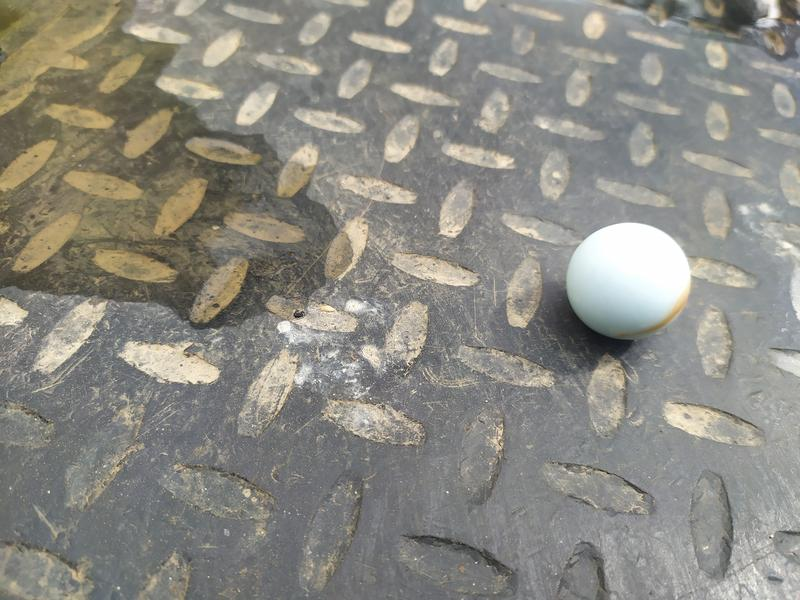Warning: (562, 219, 695, 343)
